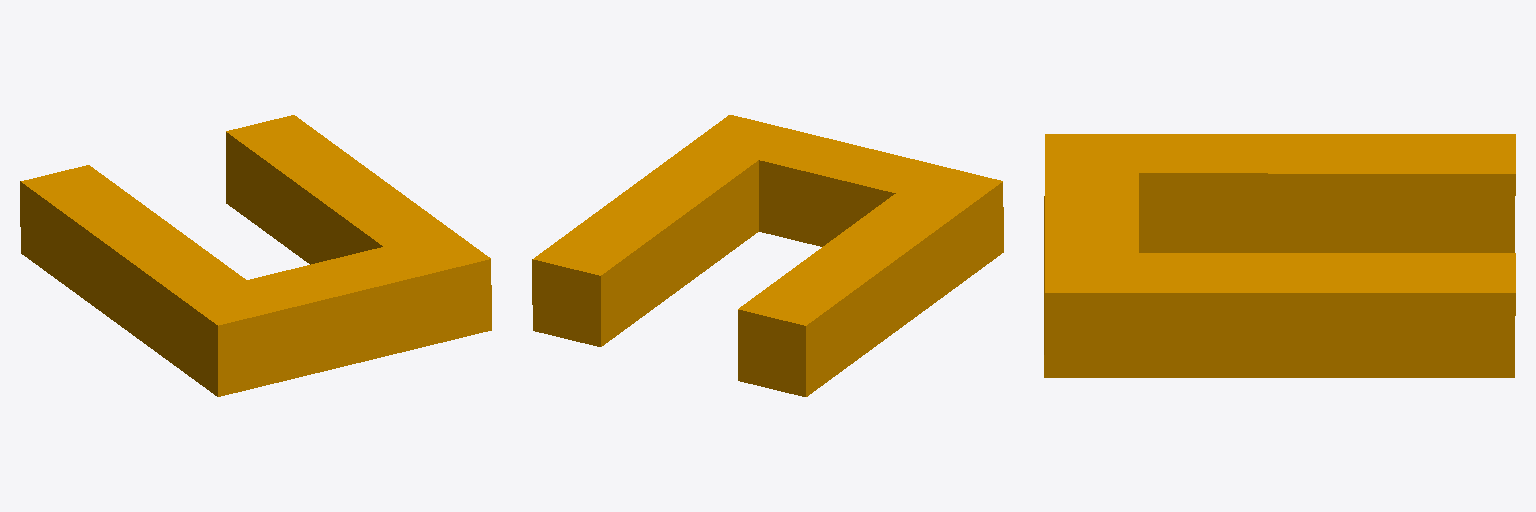
The robot description file, URDF, robot "2x4arch_cube":
<?xml version='1.0' encoding='UTF-8'?>
<robot name="2x4arch_cube">
  <link name="base_link">
    <visual name="base_link_visual">
      <geometry>
        <mesh filename="2X4arch.dae" scale="1. 1. 1."/>
      </geometry>
      <origin xyz="0 0 0" rpy="1.57 0 0"/>
    </visual>
    <collision name="base_link_collision">
      <geometry>
        <mesh filename="2X4arch.dae" scale="1. 1. 1."/>
      </geometry>
      <origin xyz="0 0 0" rpy="1.57 0 0"/>
    </collision>
  </link>
</robot>

--- Render facts (derived) ---
Views: 3 orthographic renders of the robot side by side, from view 1: azimuth 30°, elevation 25°; view 2: azimuth 150°, elevation 25°; view 3: azimuth 270°, elevation 25°.
Robot: 2x4arch_cube — 1 links, 0 joints (none); root link base_link; default pose: all joints at 0.
Links seen in each view (by area): view 1: base_link; view 2: base_link; view 3: base_link.
Link boxes in pixels (box(x1,y1,x2,y2)): base_link: box(20, 115, 491, 396); base_link: box(532, 115, 1003, 396); base_link: box(1044, 134, 1515, 377).
Size in the robot's own frame: 1.2 by 1.5 by 0.3012 metres.
Meshes: 1 distinct files referenced, 1 mesh visuals loaded (1 Collada DAE).